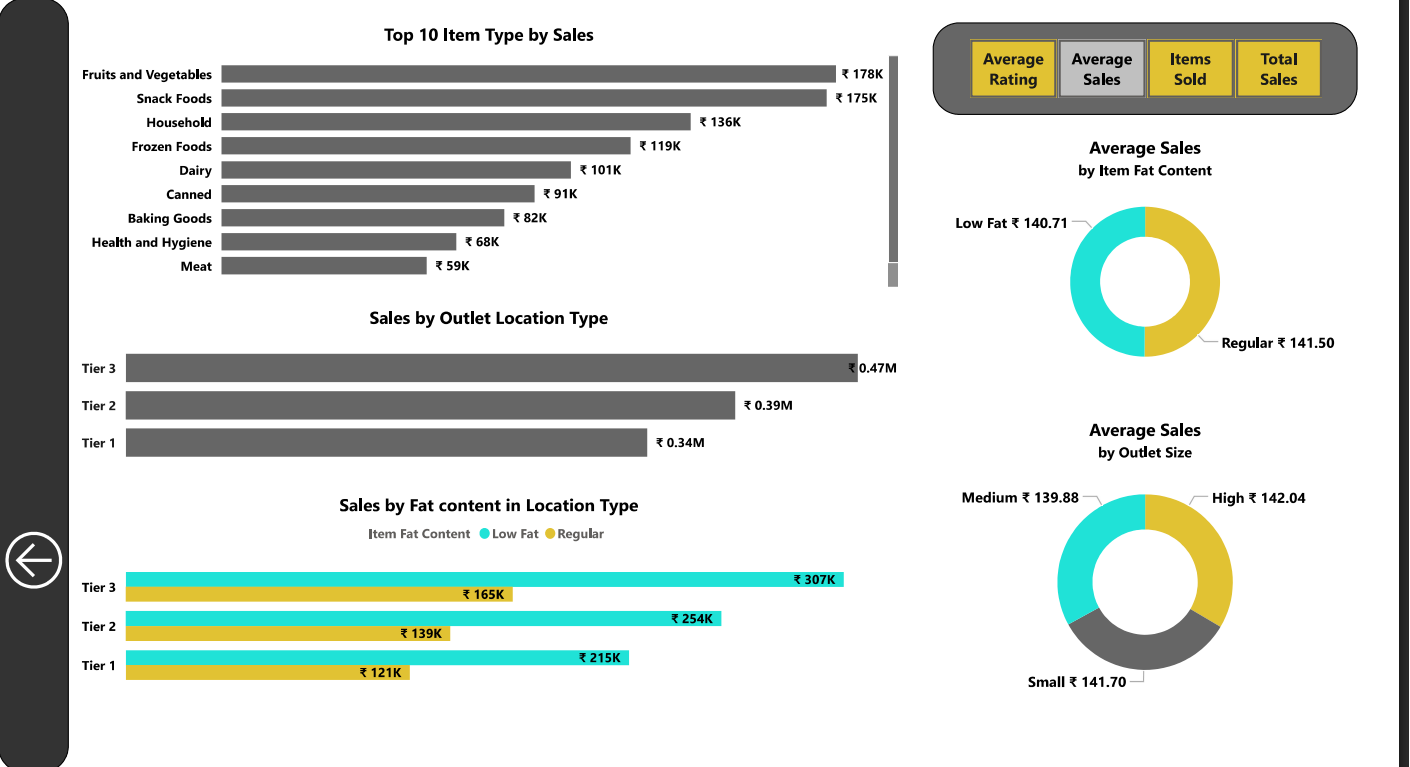

Layout of this report page (visuals, bound fields, positions):
{"tool":"powerbi","page":{"name":"Sales analysis by categories","canvas":[1280,720],"ordinal":1},"visuals":[{"type":"barChart","title":"Top 10 Item Type by Sales","fields":{"Category":["BlinkIT Grocery Data.Item Type"],"Y":["Sum(Grocery Data.Sales)"]},"box":[71.6,22.8,769.4,250.5],"z":0},{"type":"barChart","title":"Sales by Outlet Location Type","fields":{"Y":["Sum(Grocery Data.Sales)"],"Category":["Grocery Data.Outlet Location Type"]},"box":[71.6,286.3,769.4,161],"z":1000},{"type":"clusteredBarChart","title":"Sales by Fat content in Location Type","fields":{"Category":["Grocery Data.Outlet Location Type"],"Y":["Sum(Grocery Data.Sales)"],"Series":["Grocery Data.Item Fat Content"]},"box":[71.6,460.3,769.4,195.2],"z":2000},{"type":"donutChart","fields":{"Y":["Measure.Average Sales"],"Category":["Grocery Data.Item Fat Content"]},"box":[868.6,128.5,395.3,231],"z":3000},{"type":"slicer","fields":{"Values":["Sales Metrics.Sales Metrics"]},"box":[868.6,22.8,395.3,86.2],"z":4000},{"type":"donutChart","fields":{"Y":["Measure.Average Sales"],"Category":["Grocery Data.Outlet Size"]},"box":[868.6,390.4,395.3,265.1],"z":5000},{"type":"shape","box":[0,0,66.4,719.9],"z":6000},{"type":"actionButton","box":[0,481.5,66.7,83],"z":8000}]}

Visuals, with their boxes on the page's 1280x720 design canvas (x1, y1, x2, y2). These are canvas units, not pixel positions in the 1410x767 screenshot, which may show the page scaled, cropped or inside an application window:
"Top 10 Item Type by Sales" barChart: 72 23 841 273
"Sales by Outlet Location Type" barChart: 72 286 841 447
"Sales by Fat content in Location Type" clusteredBarChart: 72 460 841 656
donutChart - Measure.Average Sales x Grocery Data.Item Fat Content: 869 128 1264 360
slicer - Sales Metrics.Sales Metrics: 869 23 1264 109
donutChart - Measure.Average Sales x Grocery Data.Outlet Size: 869 390 1264 656
shape: 0 0 66 720
actionButton: 0 482 67 564
